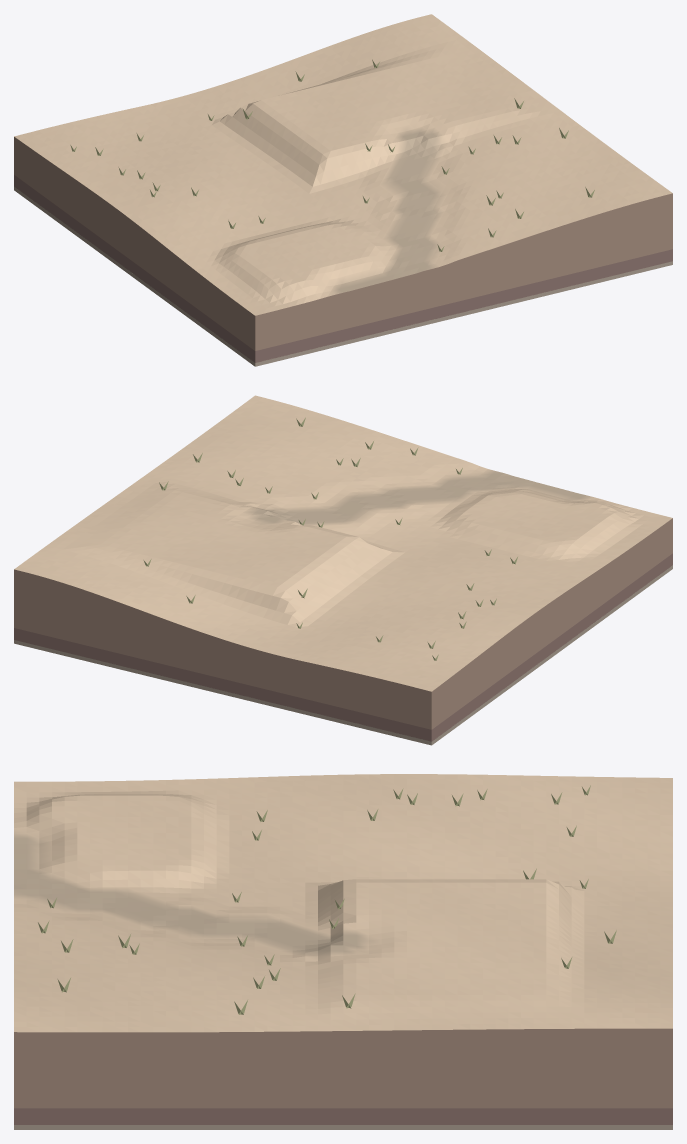
3 renders of one model, top to bottom at view 1: azimuth 30°, elevation 25°; view 2: azimuth 150°, elevation 25°; view 3: azimuth 270°, elevation 25°, orthographic. The views are drawn at different scales.
Parts seen in each view (by area): view 1: proc_ground, proc_skirt, proc_grass; view 2: proc_ground, proc_skirt, proc_grass; view 3: proc_ground, proc_skirt, proc_grass.
Boxes of the visible parts, left/top/right/bottom form: proc_ground: left=14, top=14, right=672, bottom=315; proc_skirt: left=14, top=137, right=672, bottom=366; proc_grass: left=70, top=59, right=594, bottom=251; proc_ground: left=14, top=395, right=672, bottom=691; proc_skirt: left=14, top=518, right=672, bottom=745; proc_grass: left=143, top=417, right=517, bottom=660; proc_ground: left=14, top=774, right=672, bottom=1032; proc_skirt: left=14, top=1028, right=672, bottom=1129; proc_grass: left=38, top=785, right=616, bottom=1014.
Bounding box in the file's own units: 8 × 1.54 × 8.
